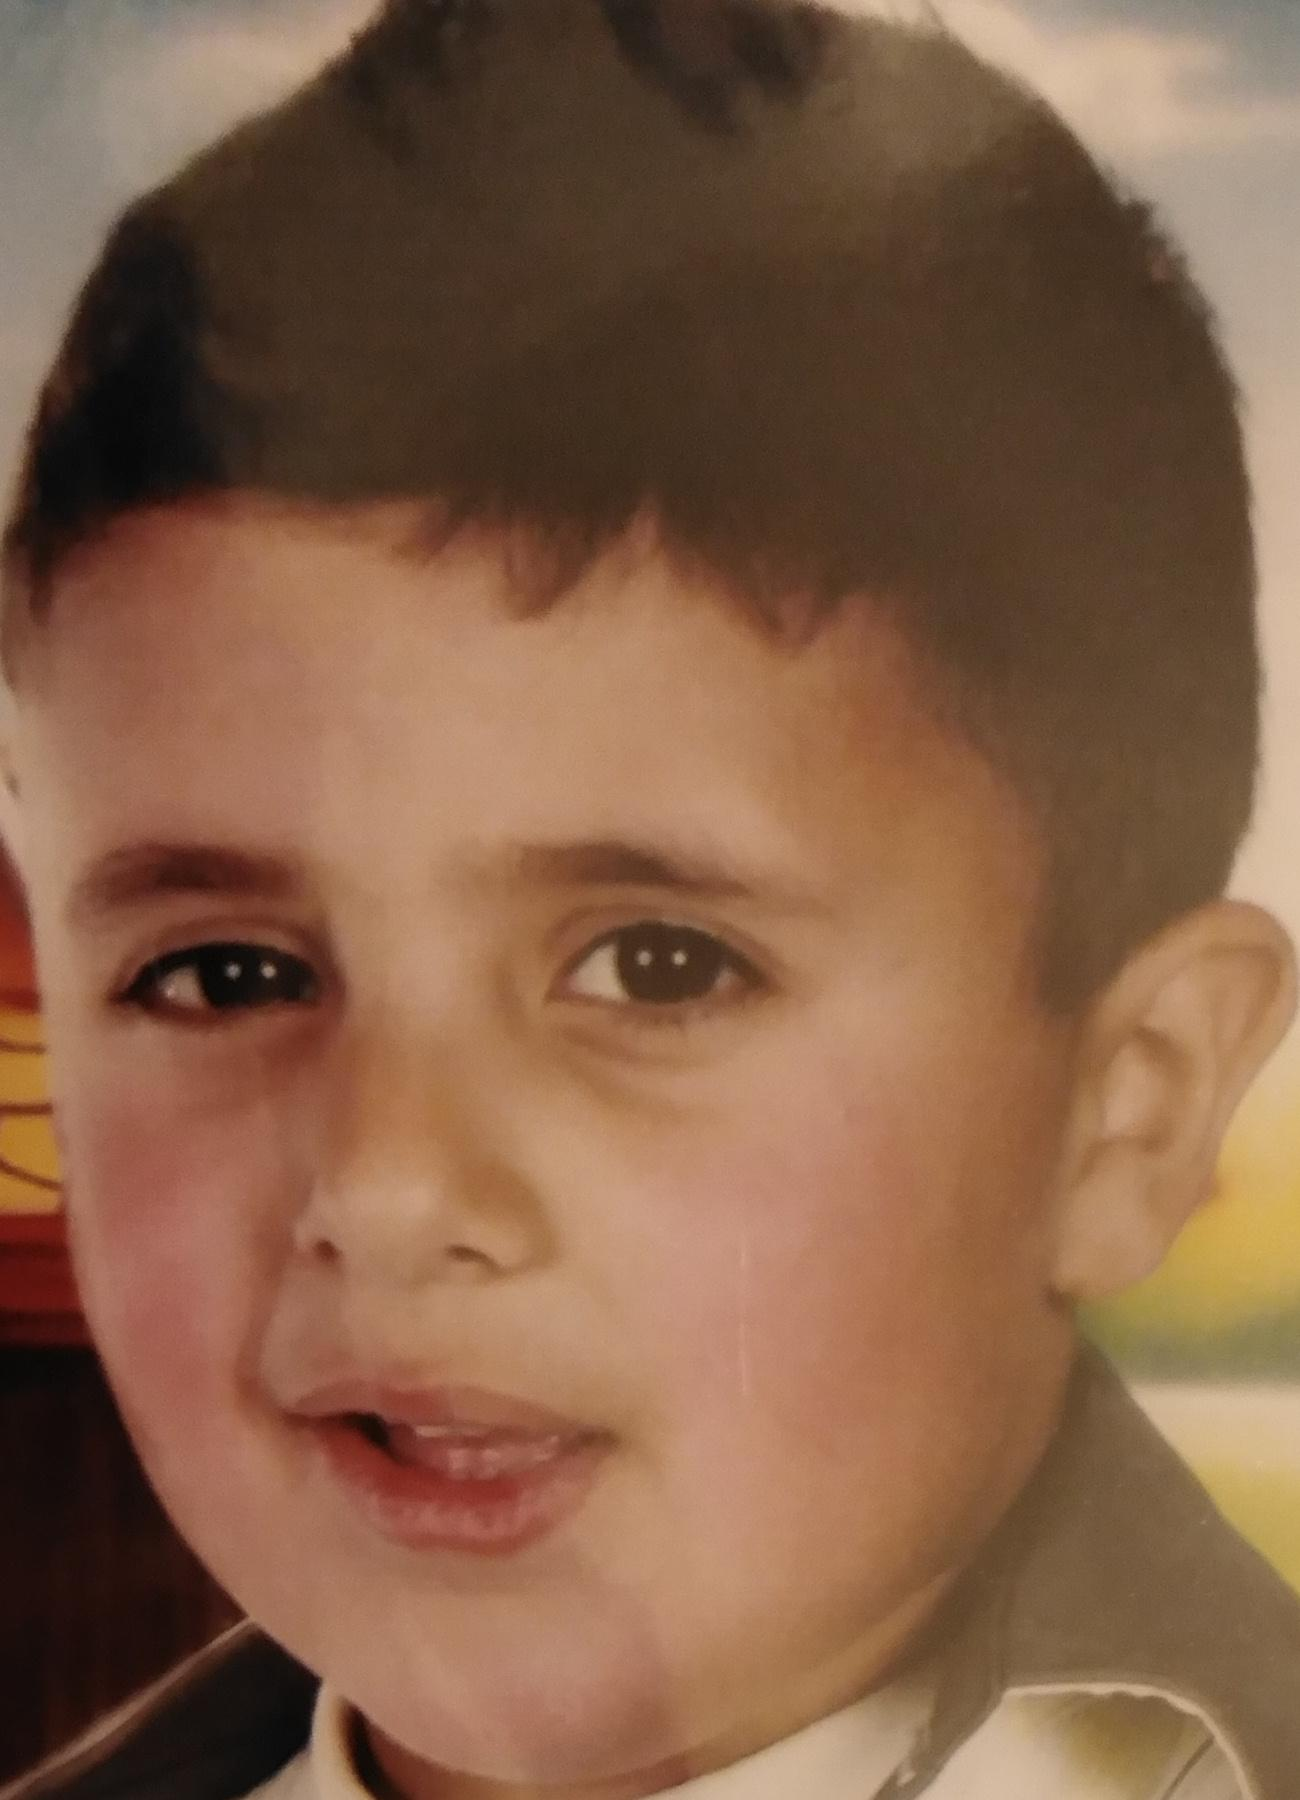face: (20, 19, 1267, 1758)
